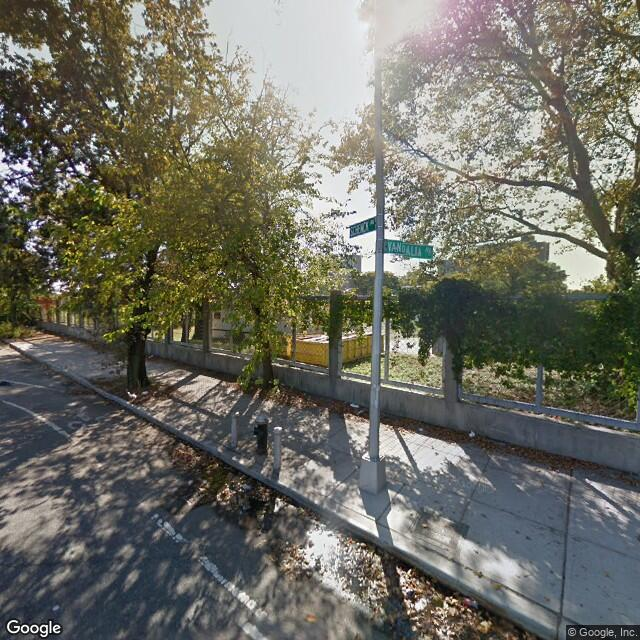litter: (461, 595, 480, 608), (124, 388, 137, 400), (240, 480, 250, 491), (349, 400, 361, 409), (416, 423, 425, 434), (465, 429, 476, 437)
